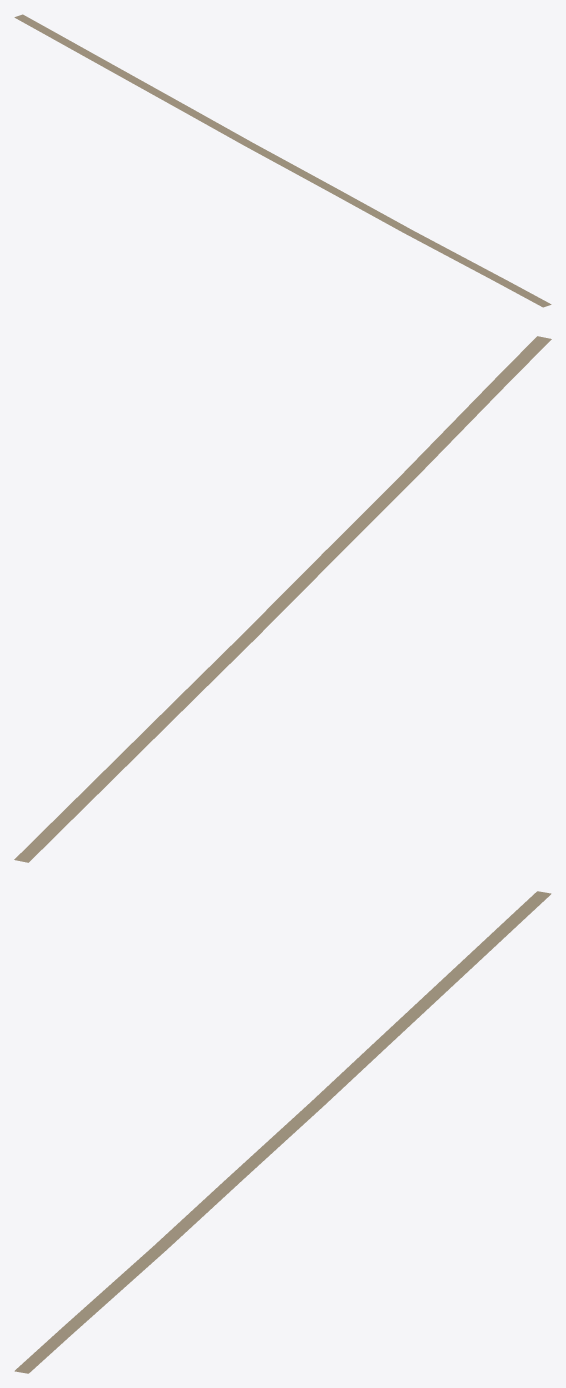
Rendered from farm_14_19_track.glb.
The picture shows the model from 3 angles, top to bottom: view 1: azimuth 30°, elevation 25°; view 2: azimuth 150°, elevation 25°; view 3: azimuth 330°, elevation 25°; orthographic projection. The views are drawn at different scales.
Parts seen in each view (by area): view 1: geometry_0; view 2: geometry_0; view 3: geometry_0.
Part boxes in pixels (x1=…): geometry_0: x1=14, y1=14, x2=551, y2=307; geometry_0: x1=14, y1=336, x2=551, y2=862; geometry_0: x1=14, y1=891, x2=551, y2=1373.
Size of the model in its own units: 32.07 by 4.98 by 265.
